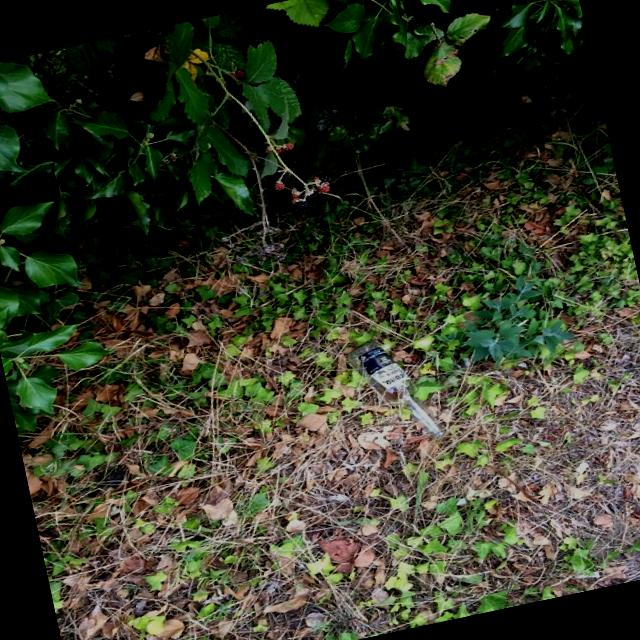Recycle: (344, 335, 446, 452)
